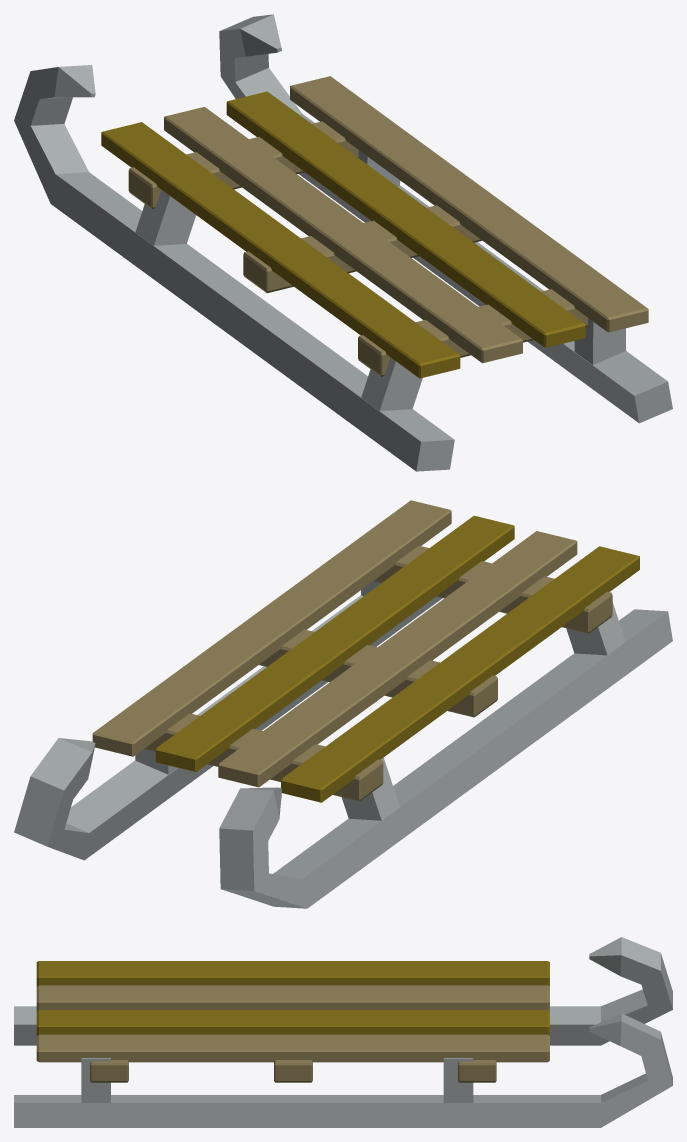
Rendered from sled.glb.
3 views of the same model, one above another, from view 1: azimuth 30°, elevation 25°; view 2: azimuth 150°, elevation 25°; view 3: azimuth 270°, elevation 25° (orthographic). The views are drawn at different scales.
Visible parts, largest first — view 1: tree:pCube137_tree:silver___0; view 2: tree:pCube137_tree:silver___0; view 3: tree:pCube137_tree:silver___0.
Part boxes in pixels (left/top/right/bottom): tree:pCube137_tree:silver___0: left=14, top=14, right=672, bottom=471; tree:pCube137_tree:silver___0: left=14, top=500, right=672, bottom=908; tree:pCube137_tree:silver___0: left=14, top=937, right=672, bottom=1127.
Bounding box in the file's own units: 3.24 × 1.55 × 8.96.
